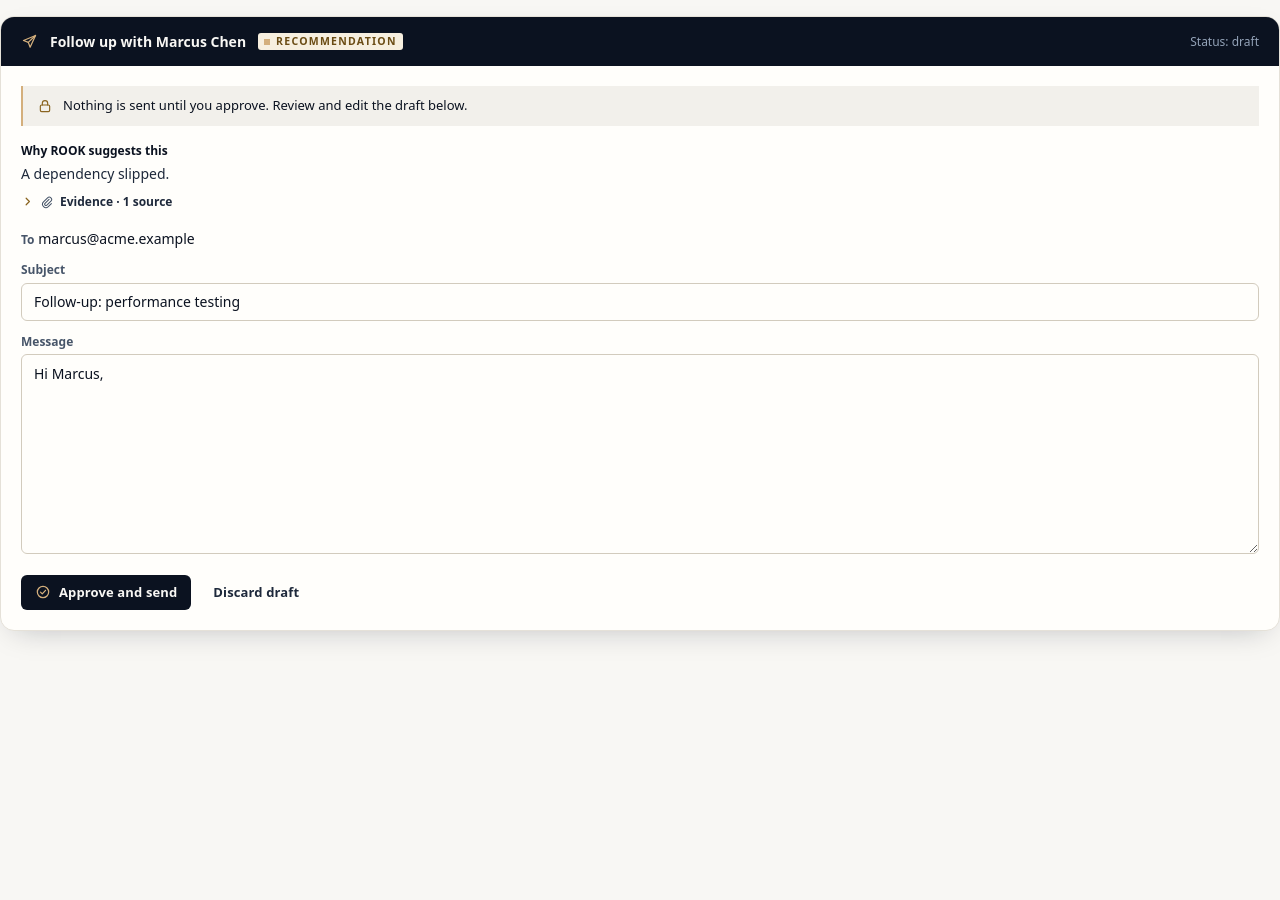
human-controlled follow-up (C-001, ADR-0005) › sends only after an explicit approval click, saving edits first
Replace the text in the text box labelled "Message" with "Hi Marcus, edited" at (640, 454), box [21,354,1259,554]
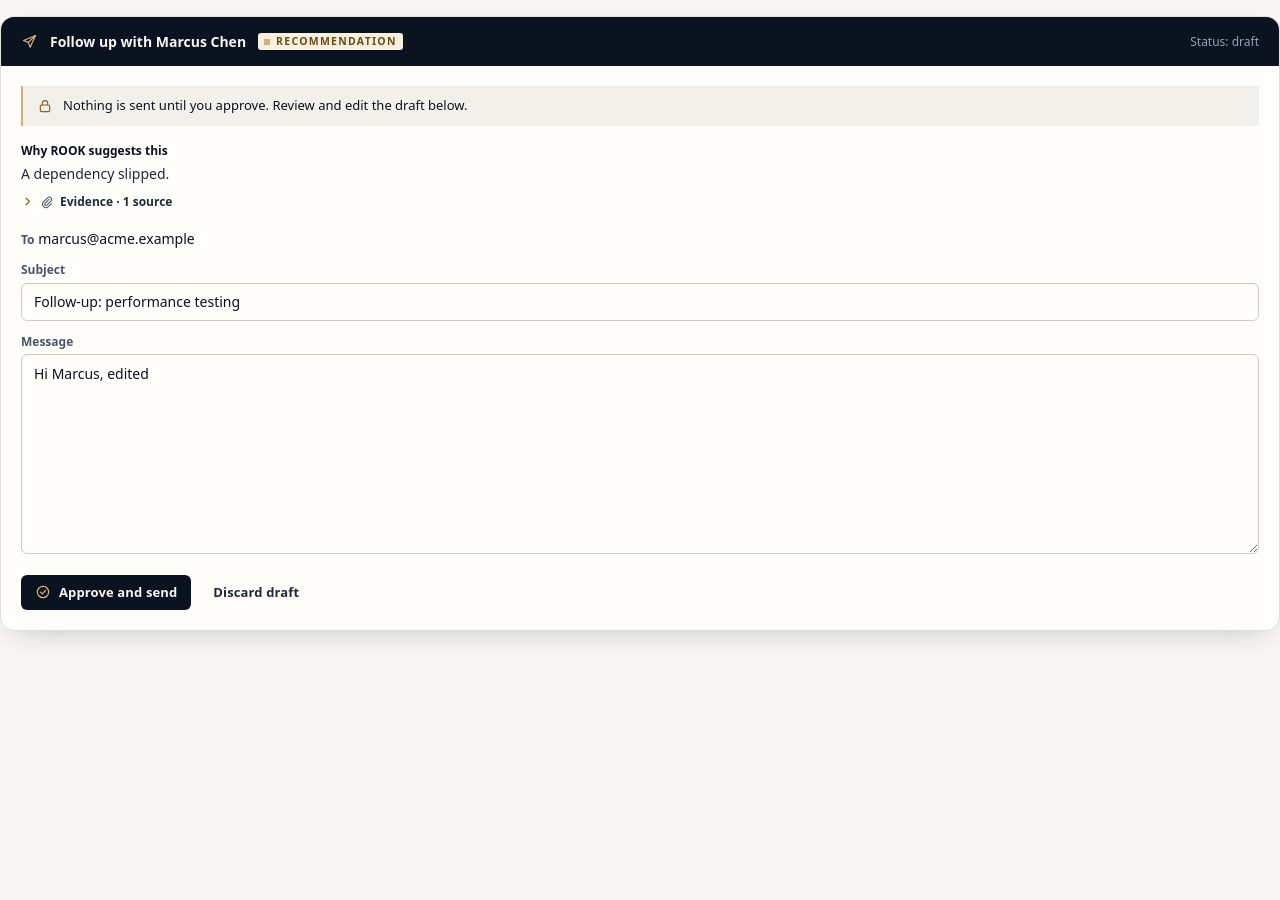
Click the button "Approve and send" at (106, 592), box [21,575,191,610]
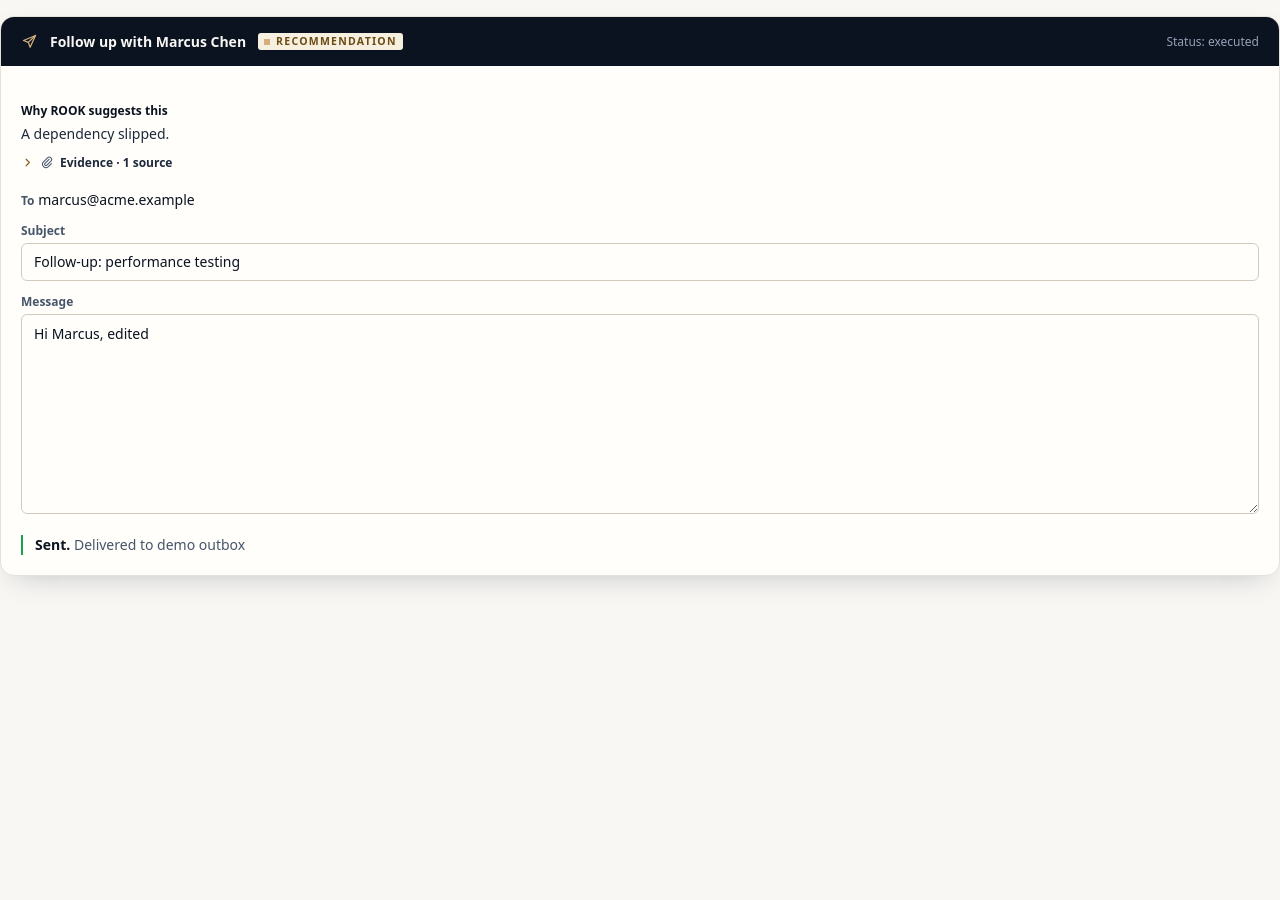
Check: the message shows "Sent.", box [35,535,70,554]
